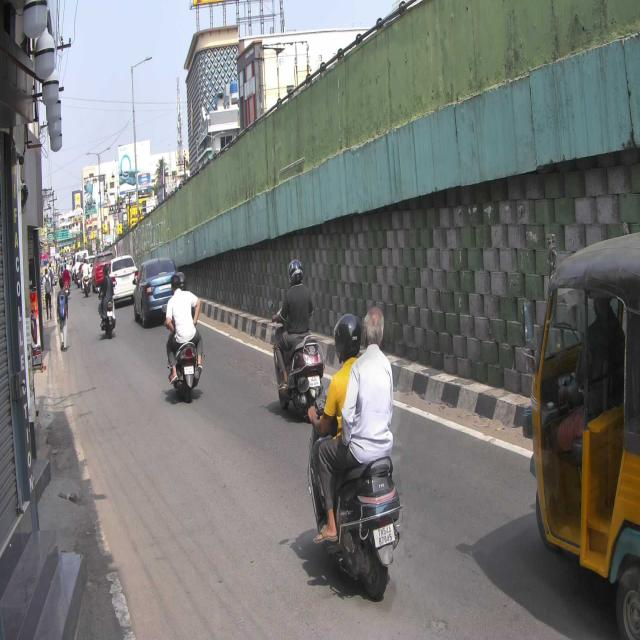double_rider: (328, 305, 403, 599)
single_rider: (272, 257, 325, 414)
